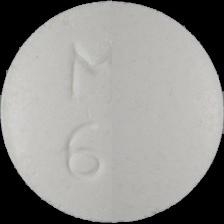68151-2701: (0, 0, 224, 224)
